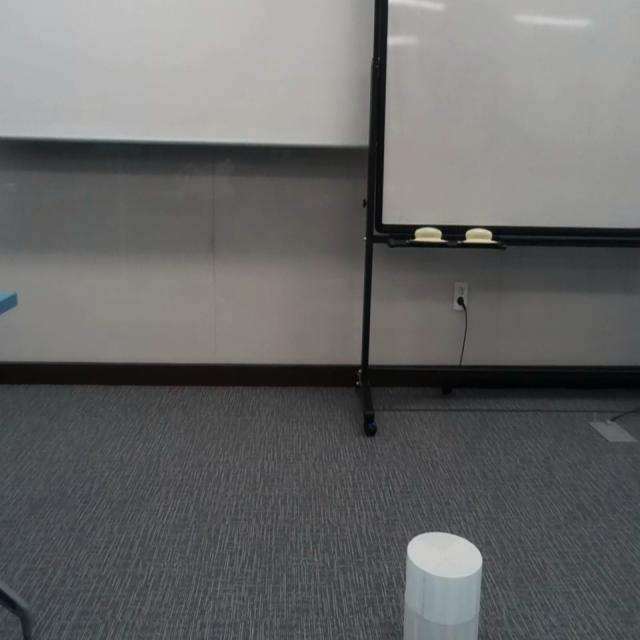cylinder: (402, 528, 483, 640)
